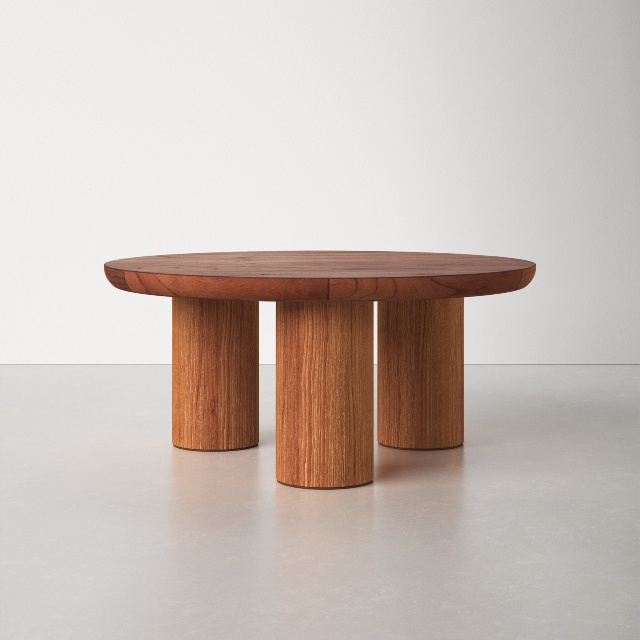obstacle: (105, 251, 535, 488)
